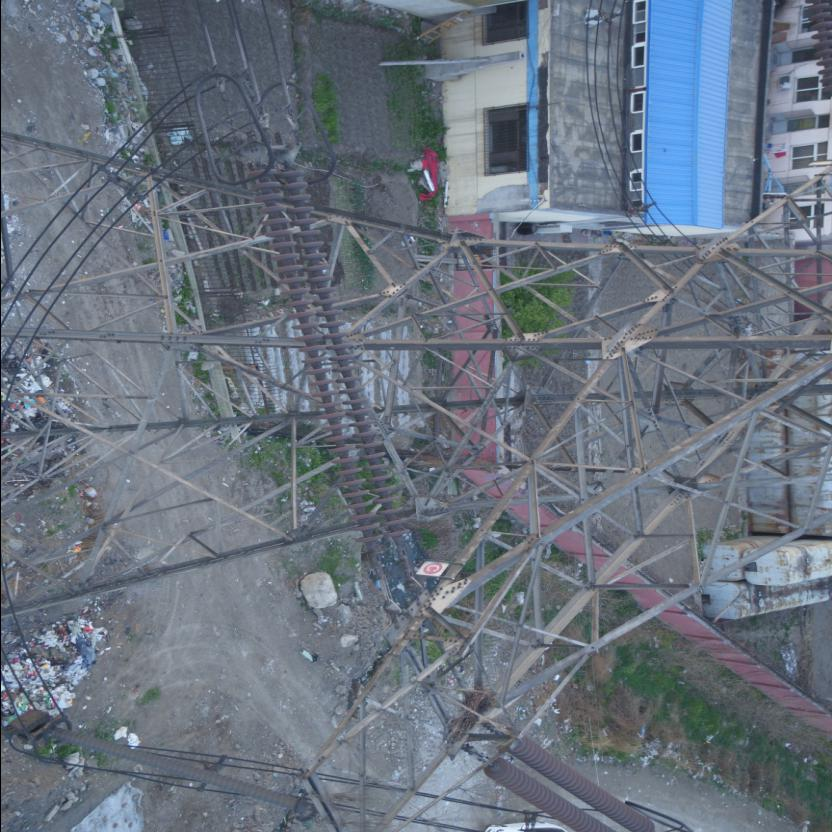insulator: (249, 154, 410, 559)
